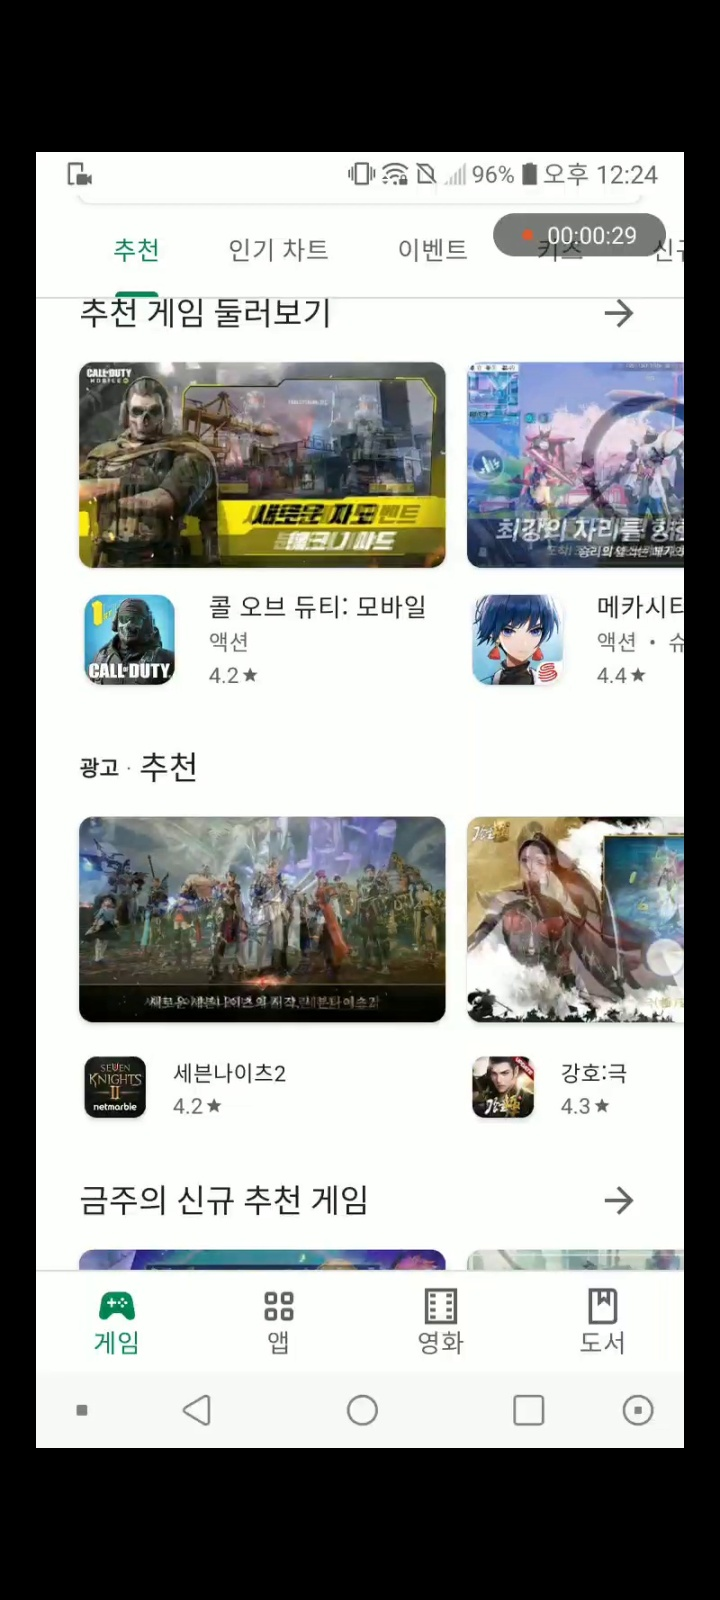Cursor: (639, 936, 684, 981)
